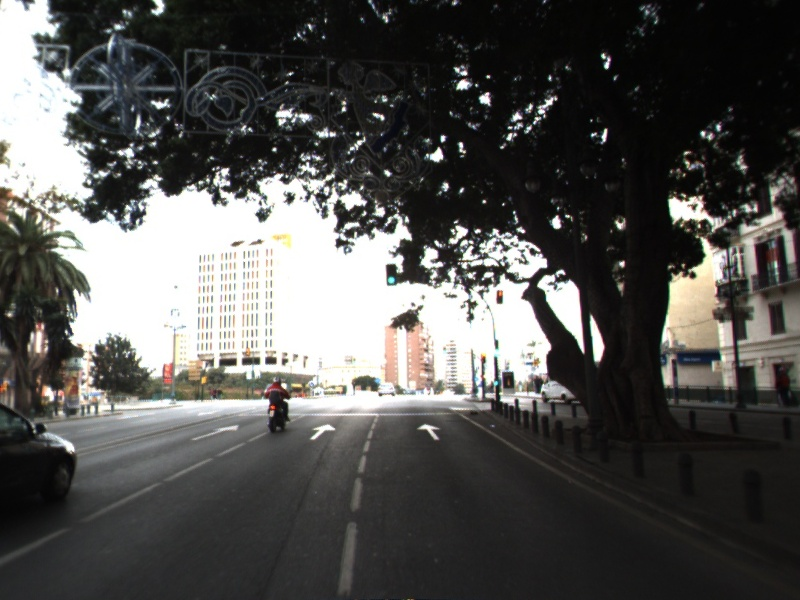STRAIGHT: (188, 423, 241, 442), (307, 422, 338, 442), (415, 421, 443, 442)
